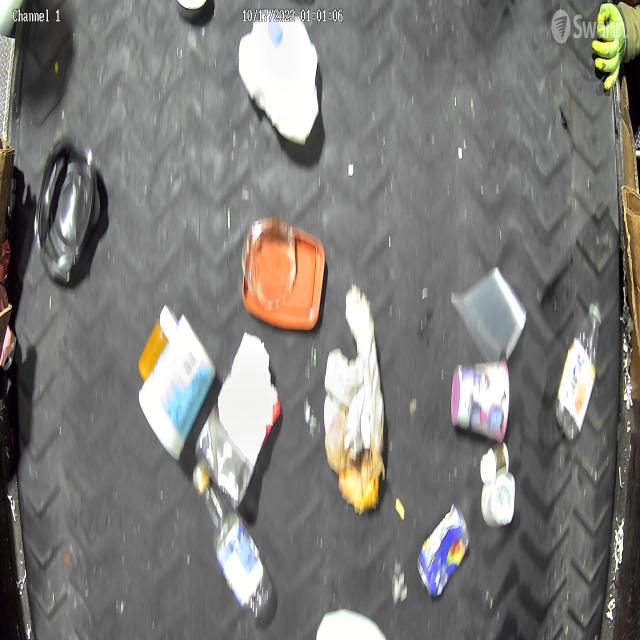can: (418, 504, 468, 596)
milk_jug: (238, 11, 318, 145), (315, 607, 393, 640)
plastic_bottle: (193, 464, 273, 619), (552, 299, 602, 441)
